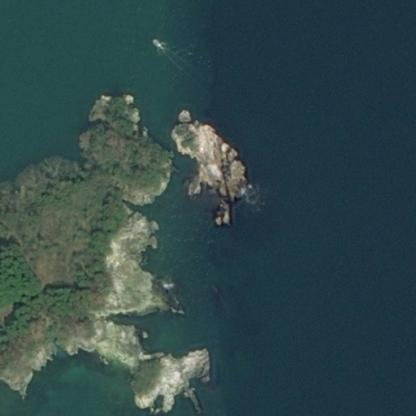ship: (147, 31, 168, 54)
